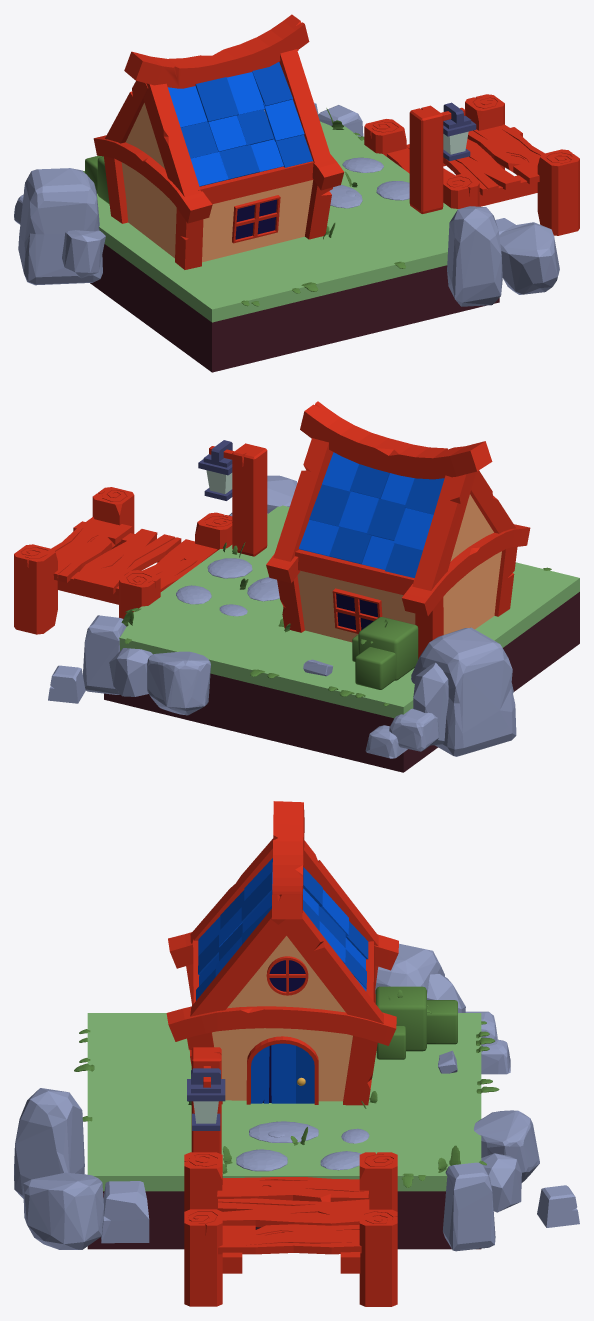
Rendered from House.glb.
3 renders of one model, top to bottom at view 1: azimuth 30°, elevation 25°; view 2: azimuth 150°, elevation 25°; view 3: azimuth 270°, elevation 25°, orthographic. The views are drawn at different scales.
Parts seen in each view (by area): view 1: Base, PAREDES, Cubo.056, Cubo.004, Cubo.103, Cubo.102, Cubo.046, Cubo.045, Cubo.007, Cubo.026, Cubo.038, Cubo.008 (+30 smaller); view 2: Base, Cubo.056, PAREDES, Cubo.004, Cubo.046, Cubo, Cubo.055, Cubo.006, Cubo.041, Cubo.026, Cubo.005, Cubo.038 (+37 smaller); view 3: Base, PAREDES, Cubo.103, Cubo.102, Cubo.001, puerta, Cubo.052, Cubo.038, Cubo, Cubo.005, Cubo.045, Cubo.041 (+26 smaller).
Boxes of the visible parts, x1,y1,x2,y2 form: Base: (90, 121, 499, 372); PAREDES: (121, 103, 312, 262); Cubo.056: (18, 168, 102, 285); Cubo.004: (124, 14, 309, 88); Cubo.103: (447, 206, 502, 306); Cubo.102: (499, 222, 559, 294); Cubo.046: (409, 105, 443, 213); Cubo.045: (537, 149, 579, 235); Cubo.007: (143, 83, 201, 196); Cubo.026: (93, 135, 212, 223); Cubo.038: (467, 124, 544, 184); Cubo.008: (279, 49, 331, 163); Base: (104, 505, 579, 772); Cubo.056: (411, 627, 516, 756); PAREDES: (297, 494, 501, 642); Cubo.004: (300, 401, 492, 479); Cubo.046: (232, 443, 267, 556); Cubo: (14, 544, 57, 634); Cubo.055: (147, 651, 210, 715); Cubo.006: (412, 472, 475, 590); Cubo.041: (74, 529, 181, 594); Cubo.026: (402, 524, 530, 616); Cubo.005: (273, 438, 333, 561); Cubo.038: (51, 517, 132, 582); Base: (87, 1013, 481, 1249); PAREDES: (212, 936, 352, 1101); Cubo.103: (14, 1088, 84, 1198); Cubo.102: (23, 1172, 103, 1249); Cubo.001: (166, 1006, 396, 1045); puerta: (246, 1036, 318, 1104); Cubo.052: (443, 1162, 495, 1251); Cubo.038: (218, 1224, 361, 1254); Cubo: (359, 1209, 397, 1306); Cubo.005: (271, 910, 383, 1023); Cubo.045: (184, 1209, 222, 1306); Cubo.041: (218, 1198, 369, 1227).
Bounding box in the file's own units: 21.34 × 10.61 × 18.69.
